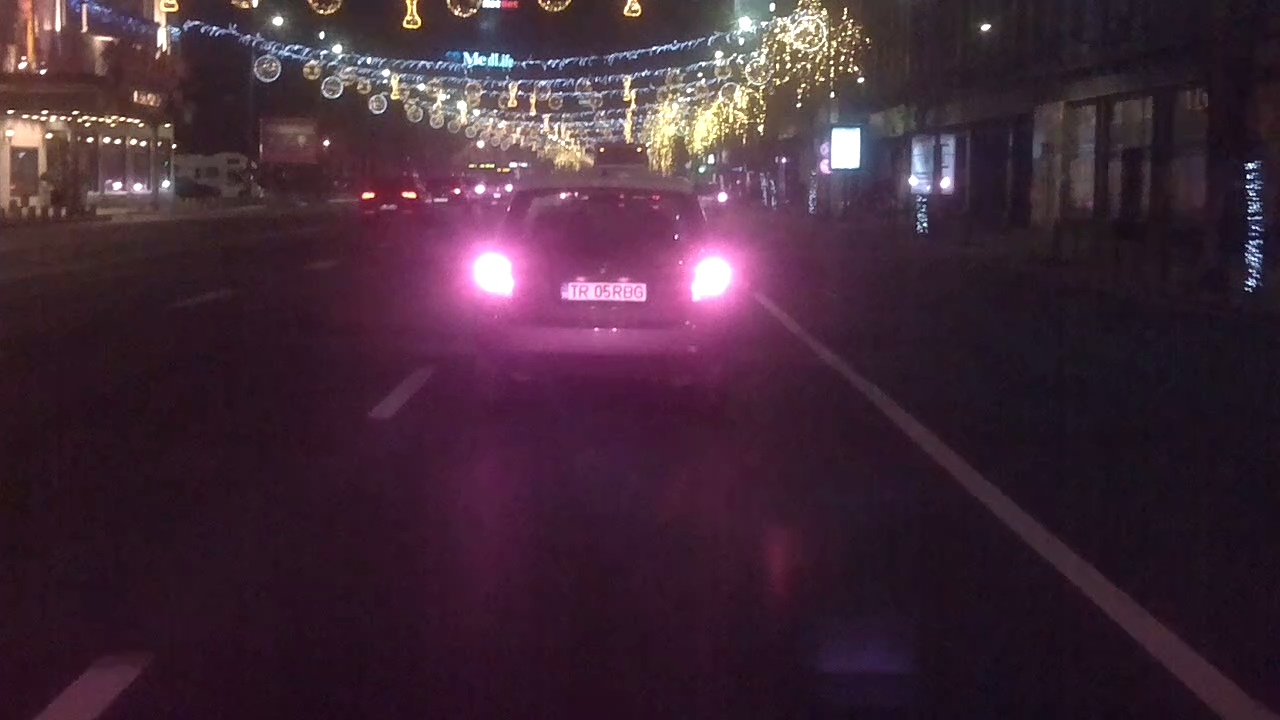license-plate: (556, 276, 650, 304)
